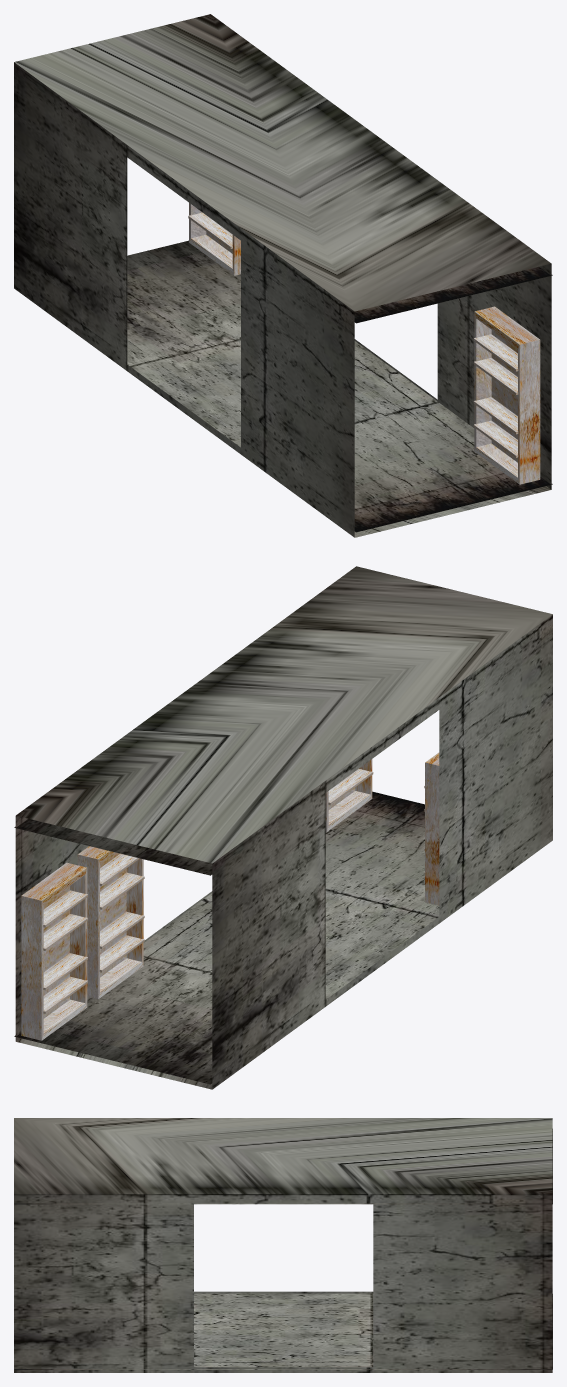
The model's file is PasilloUnion.glb.
The picture shows the model from 3 angles, top to bottom: view 1: azimuth 30°, elevation 25°; view 2: azimuth 150°, elevation 25°; view 3: azimuth 270°, elevation 25°; orthographic projection. The views are drawn at different scales.
Visible parts, largest first — view 1: Cubo.050; view 2: Cubo.050; view 3: Cubo.050.
Part boxes in pixels (left/top/right/bottom): Cubo.050: left=14, top=14, right=552, bottom=537; Cubo.050: left=14, top=566, right=552, bottom=1089; Cubo.050: left=14, top=1118, right=552, bottom=1372.
Bounding box in the file's own units: 5.04 × 5.5 × 15.01.
Materials: 9 (9 with a texture image).
